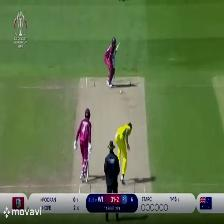ball: (116, 87, 124, 93)
batsman: (100, 35, 124, 88)
